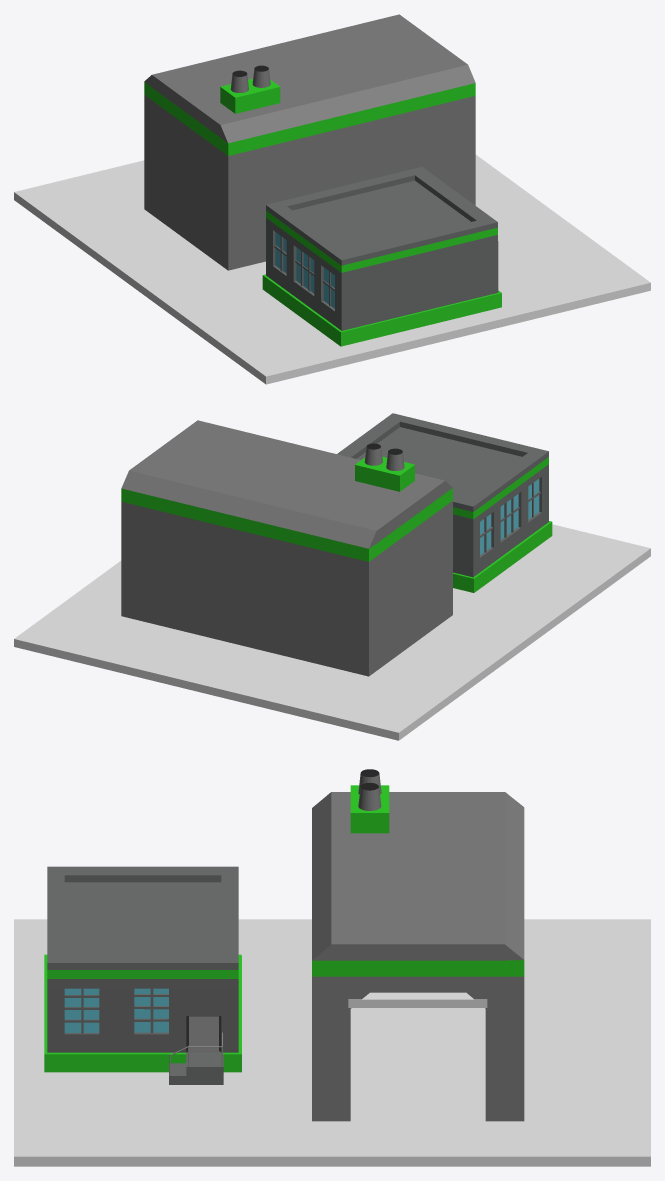
Rendered from TheGarage.fbx.
3 views of the same model, one above another, from view 1: azimuth 30°, elevation 25°; view 2: azimuth 150°, elevation 25°; view 3: azimuth 270°, elevation 25° (orthographic). The views are drawn at different scales.
Parts seen in each view (by area): view 1: Garage, Ground, SideBuilding; view 2: Garage, Ground, SideBuilding; view 3: Ground, Garage, SideBuilding, GarageDoor.
Boxes of the visible parts, x1=… form: Garage: x1=144, y1=14, x2=475, y2=270; Ground: x1=14, y1=154, x2=650, y2=384; SideBuilding: x1=262, y1=167, x2=501, y2=346; Garage: x1=121, y1=420, x2=452, y2=676; Ground: x1=14, y1=524, x2=650, y2=740; SideBuilding: x1=337, y1=413, x2=552, y2=592; Ground: x1=14, y1=919, x2=650, y2=1166; Garage: x1=312, y1=769, x2=524, y2=1121; SideBuilding: x1=44, y1=866, x2=241, y2=1084; GarageDoor: x1=348, y1=992, x2=487, y2=1007.
Bounding box in the file's own units: 1571 × 701 × 1782.
